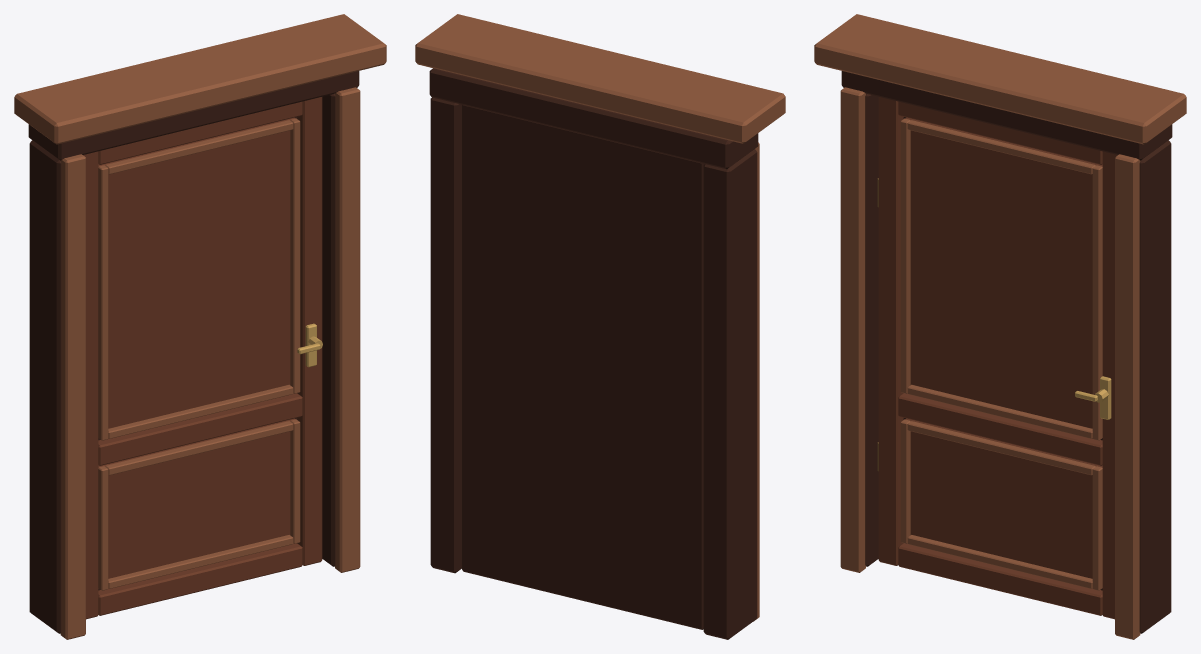
The model's file is panel_door.glb.
3 renders of one model, left to right at view 1: azimuth 30°, elevation 25°; view 2: azimuth 150°, elevation 25°; view 3: azimuth 330°, elevation 25°, orthographic.
Visible parts, largest first — view 1: Panel_0_1_Field, Cornice, Panel_0_0_Field, Jamb__1, Jamb_moulding_1, Jamb_moulding__1, Leaf_stile_0_1, Jamb_1, Leaf_stile_0__1, Lintel, Leaf_crossrail_0_0_048, Leaf_crossrail_0_0_744 (+9 smaller); view 2: Leaf_0, Jamb__1, Cornice, Jamb_1, Lintel, Jamb_moulding__1; view 3: Panel_0_1_Field, Cornice, Panel_0_0_Field, Jamb_1, Jamb_moulding__1, Jamb_moulding_1, Leaf_stile_0__1, Jamb__1, Leaf_stile_0_1, Lintel, Leaf_crossrail_0_0_048, Leaf_crossrail_0_0_744 (+9 smaller).
Boxes of the visible parts, <box> form: Panel_0_1_Field: <box>98,117,295,428</box>; Cornice: <box>14,14,386,144</box>; Panel_0_0_Field: <box>98,418,295,578</box>; Jamb__1: <box>29,140,61,633</box>; Jamb_moulding_1: <box>335,87,360,572</box>; Jamb_moulding__1: <box>60,154,85,639</box>; Leaf_stile_0_1: <box>297,97,322,565</box>; Jamb_1: <box>322,93,335,566</box>; Leaf_stile_0__1: <box>83,151,98,619</box>; Lintel: <box>28,71,359,160</box>; Leaf_crossrail_0_0_048: <box>98,543,302,615</box>; Leaf_crossrail_0_0_744: <box>98,393,302,465</box>; Leaf_0: <box>462,105,704,629</box>; Jamb__1: <box>703,149,757,639</box>; Cornice: <box>415,14,785,143</box>; Jamb_1: <box>430,97,461,573</box>; Lintel: <box>429,68,758,169</box>; Jamb_moulding__1: <box>753,142,759,621</box>; Panel_0_1_Field: <box>905,117,1102,428</box>; Cornice: <box>814,14,1186,144</box>; Panel_0_0_Field: <box>905,418,1102,578</box>; Jamb_1: <box>1139,140,1171,633</box>; Jamb_moulding__1: <box>840,87,865,572</box>; Jamb_moulding_1: <box>1115,154,1140,639</box>; Leaf_stile_0__1: <box>878,97,903,565</box>; Jamb__1: <box>865,93,878,566</box>; Leaf_stile_0_1: <box>1102,151,1117,619</box>; Lintel: <box>841,71,1172,160</box>; Leaf_crossrail_0_0_048: <box>898,543,1102,615</box>; Leaf_crossrail_0_0_744: <box>898,393,1102,465</box>.
Size of the model in its own units: 1.61 by 2.44 by 0.37.
